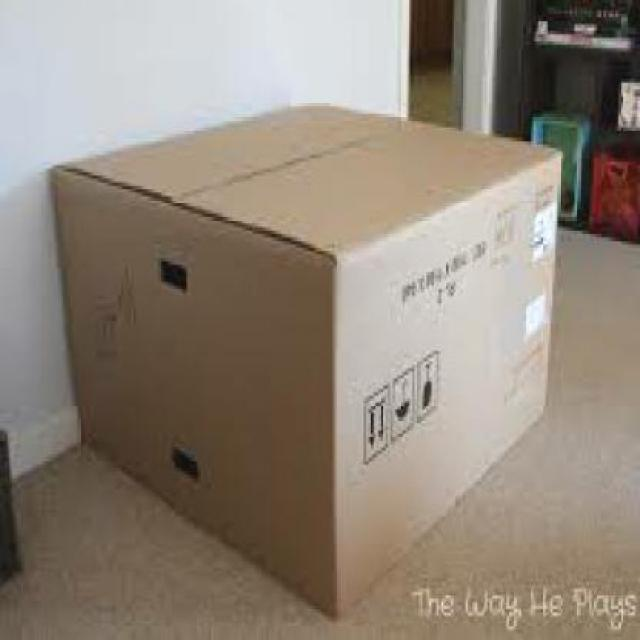box: (36, 96, 579, 619)
